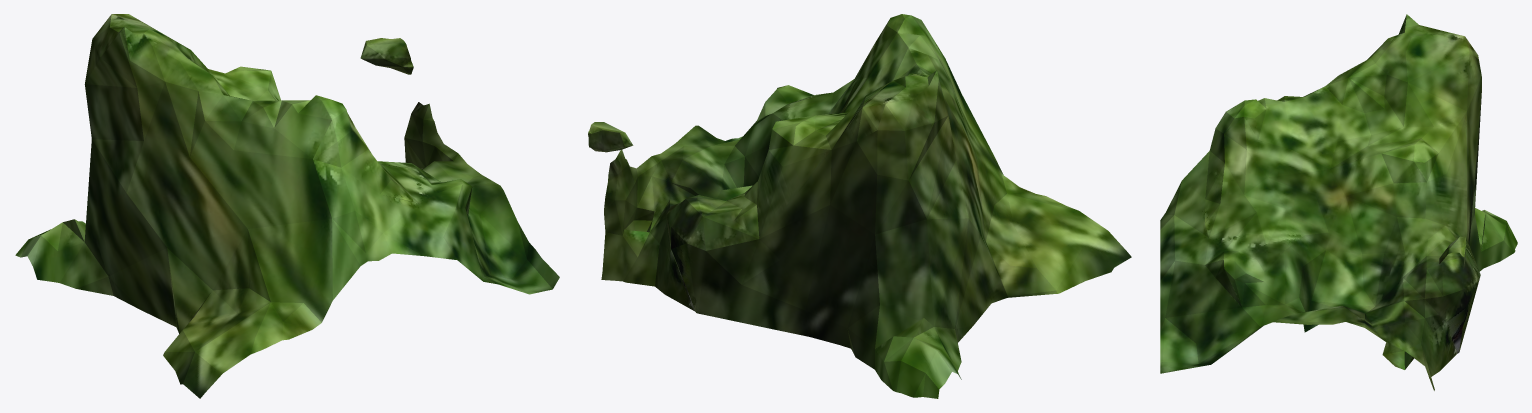
The picture shows the model from 3 angles, left to right: view 1: azimuth 30°, elevation 25°; view 2: azimuth 150°, elevation 25°; view 3: azimuth 270°, elevation 25°; orthographic projection. The views are drawn at different scales.
Size of the model in its own units: 0.8374 by 0.5839 by 0.7686.
4 materials, 4 textured.
